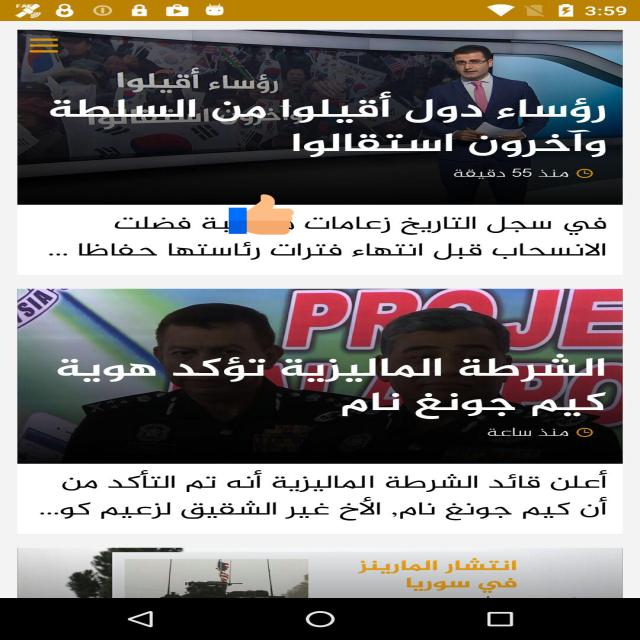privacy zuckering: (229, 193, 294, 236)
